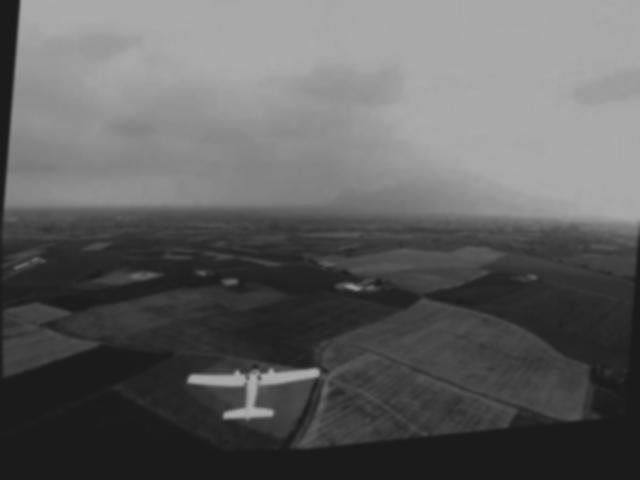hedef: (177, 353, 325, 447)
